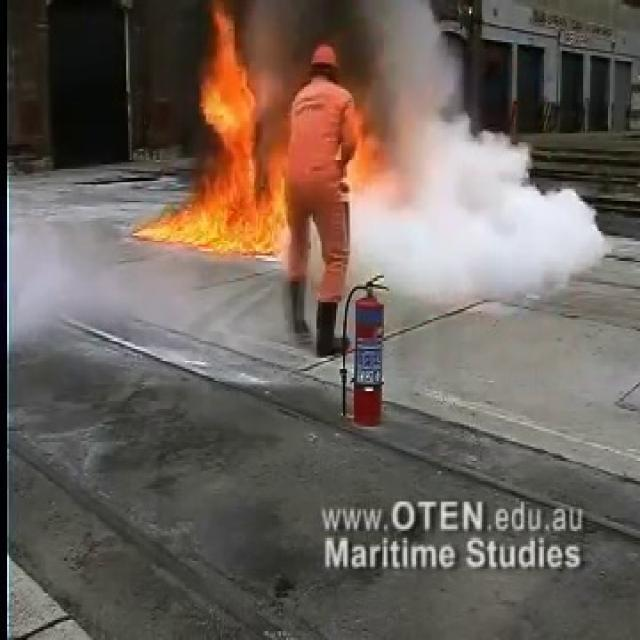Fire: (144, 2, 358, 264)
Smoke: (340, 0, 588, 331)
